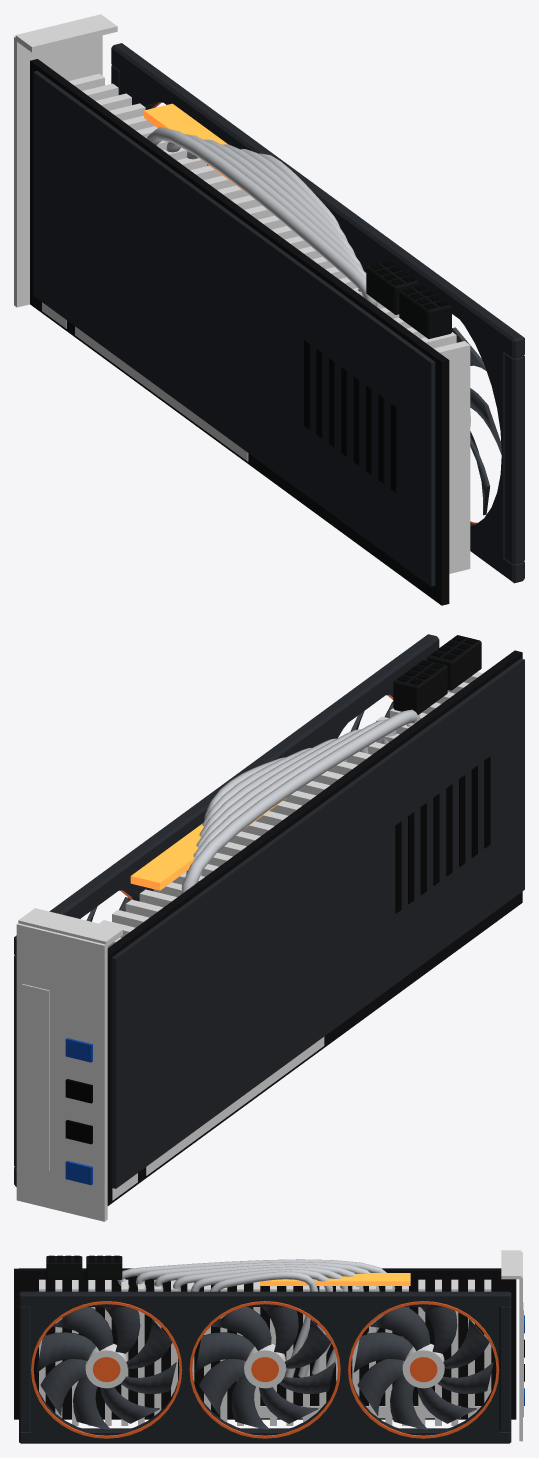
File: hw_gpu_rtx5090.glb
3 views of the same model, one above another, from view 1: azimuth 30°, elevation 25°; view 2: azimuth 150°, elevation 25°; view 3: azimuth 270°, elevation 25° (orthographic). The views are drawn at different scales.
Parts seen in each view (by area): view 1: Body, Rotor_X_2; view 2: Body; view 3: Body, Rotor_X_1, Rotor_X_0, Rotor_X_2.
Boxes of the visible parts, x1=… form: Body: x1=14, y1=14, x2=524, y2=605; Rotor_X_2: x1=452, y1=327, x2=501, y2=515; Body: x1=14, y1=634, x2=524, y2=1221; Body: x1=14, y1=1250, x2=524, y2=1443; Rotor_X_1: x1=195, y1=1307, x2=334, y2=1429; Rotor_X_0: x1=353, y1=1307, x2=493, y2=1429; Rotor_X_2: x1=36, y1=1307, x2=176, y2=1429.
Size of the model in its own units: 0.0426 by 0.1106 by 0.3052.
